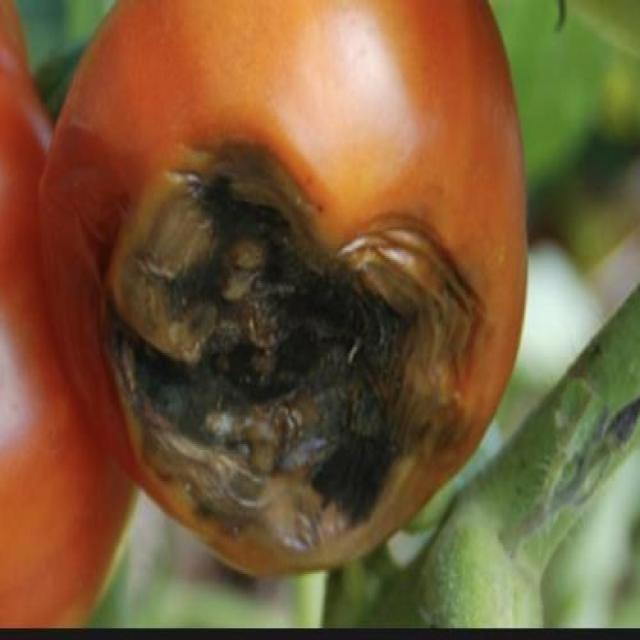Blossom End Rot Fruit: (54, 84, 322, 374)
